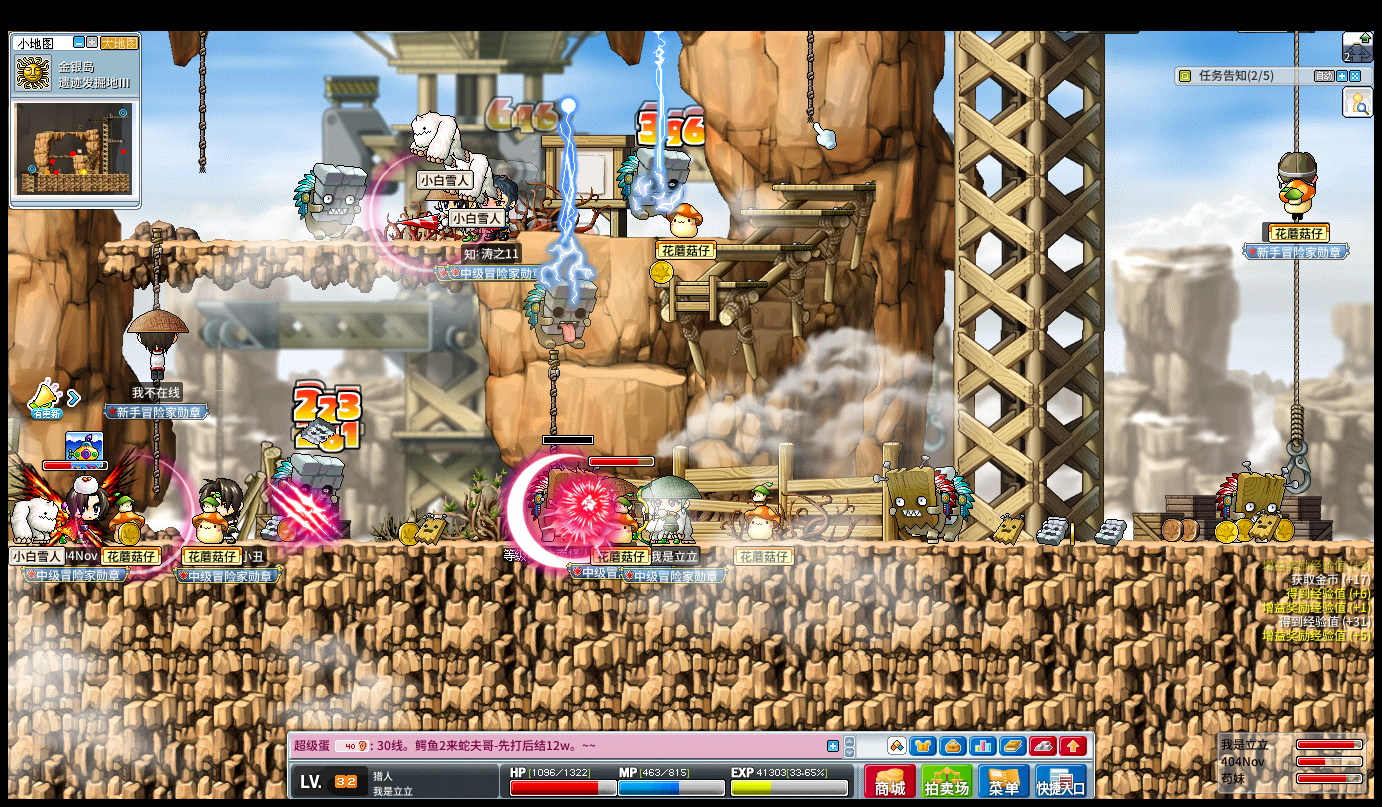floor: (104, 238, 478, 249), (578, 365, 688, 384), (586, 232, 737, 240), (649, 279, 768, 287), (737, 207, 852, 215), (709, 242, 811, 250), (770, 184, 877, 191)
monster: (879, 459, 974, 544), (1215, 462, 1300, 544), (292, 162, 367, 244), (275, 452, 343, 542), (521, 271, 598, 350), (617, 148, 689, 218)
rope: (1292, 256, 1302, 405), (146, 228, 162, 308), (547, 350, 561, 441), (198, 32, 207, 172), (805, 29, 815, 124), (151, 227, 163, 306), (1292, 30, 1299, 148), (1289, 399, 1304, 444)
